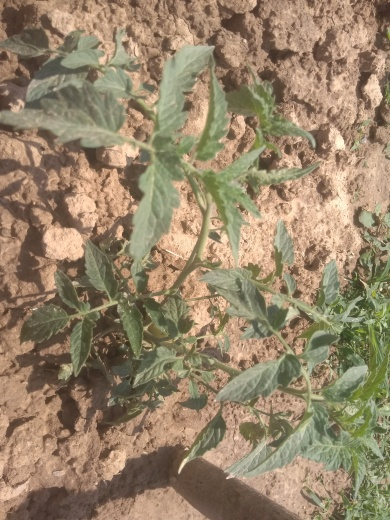tomato plant: (23, 37, 290, 229), (231, 272, 390, 517), (40, 258, 204, 397)
